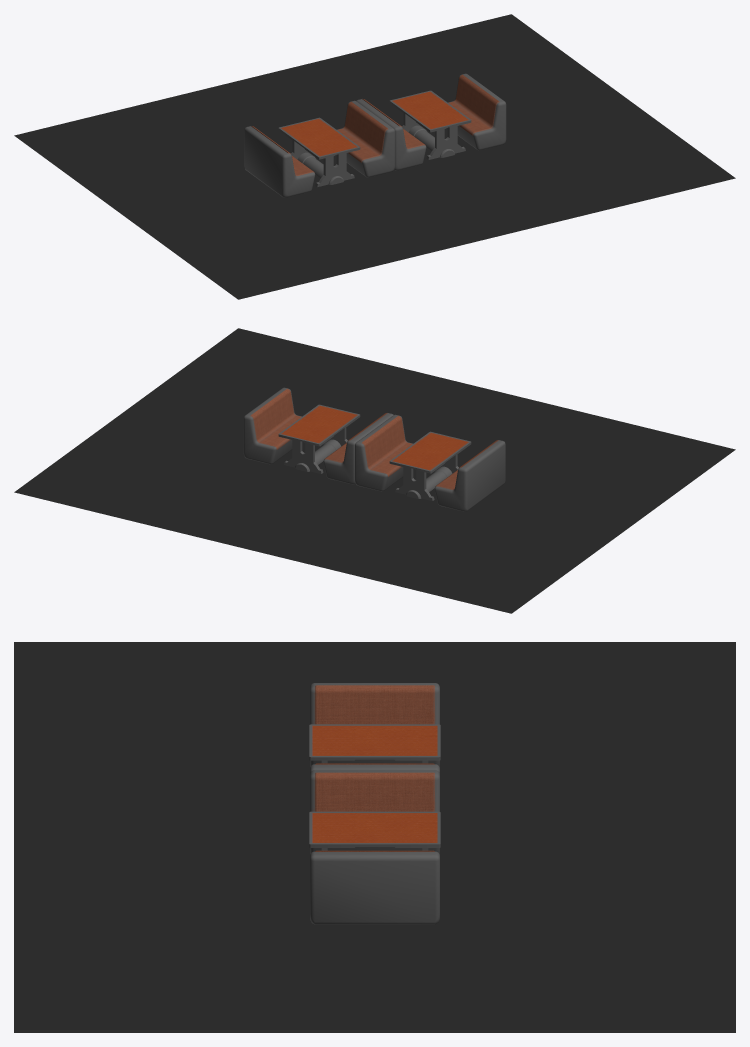
Rendered from table_sofa.glb.
3 renders of one model, top to bottom at view 1: azimuth 30°, elevation 25°; view 2: azimuth 150°, elevation 25°; view 3: azimuth 270°, elevation 25°, orthographic. The views are drawn at different scales.
Parts seen in each view (by area): view 1: Plane, sofa_low, sofa_low.003, sofa_low.001, Plane_low, Plane_low.001, sofa_low.002, Cylinder.001_low, Cylinder.001_low.001; view 2: Plane, sofa_low, sofa_low.003, sofa_low.001, Plane_low, Plane_low.001, sofa_low.002, Cylinder.001_low, Cylinder.001_low.001; view 3: Plane, sofa_low.003, sofa_low, sofa_low.002, Plane_low, Plane_low.001, sofa_low.001.
Boxes of the visible parts, x1,y1,x2,y2 form: Plane: (14, 14, 735, 299); sofa_low: (244, 126, 315, 197); sofa_low.003: (447, 73, 506, 150); sofa_low.001: (337, 100, 394, 177); Plane_low: (278, 117, 360, 159); Plane_low.001: (389, 90, 471, 132); sofa_low.002: (356, 99, 426, 170); Cylinder.001_low: (291, 140, 354, 186); Cylinder.001_low.001: (402, 113, 465, 159); Plane: (14, 328, 735, 613); sofa_low: (434, 440, 505, 511); sofa_low.003: (243, 387, 302, 464); sofa_low.001: (355, 414, 412, 491); Plane_low: (389, 431, 471, 473); Plane_low.001: (278, 404, 360, 446); sofa_low.002: (323, 413, 393, 484); Cylinder.001_low: (395, 454, 458, 500); Cylinder.001_low.001: (284, 427, 347, 473); Plane: (14, 642, 735, 1032); sofa_low.003: (310, 850, 439, 924); sofa_low: (310, 683, 439, 767); sofa_low.002: (310, 770, 439, 854); Plane_low: (309, 724, 440, 760); Plane_low.001: (309, 811, 440, 847); sofa_low.001: (310, 763, 439, 773).
Bounding box in the file's own units: 1453 × 123 × 1135.
2 materials, 1 textured.
